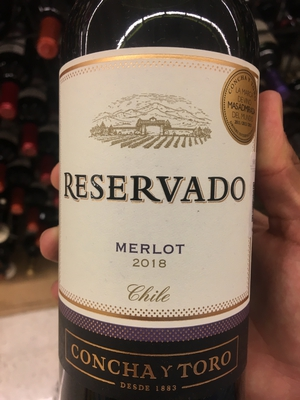reservado merlot: (46, 10, 267, 398)
